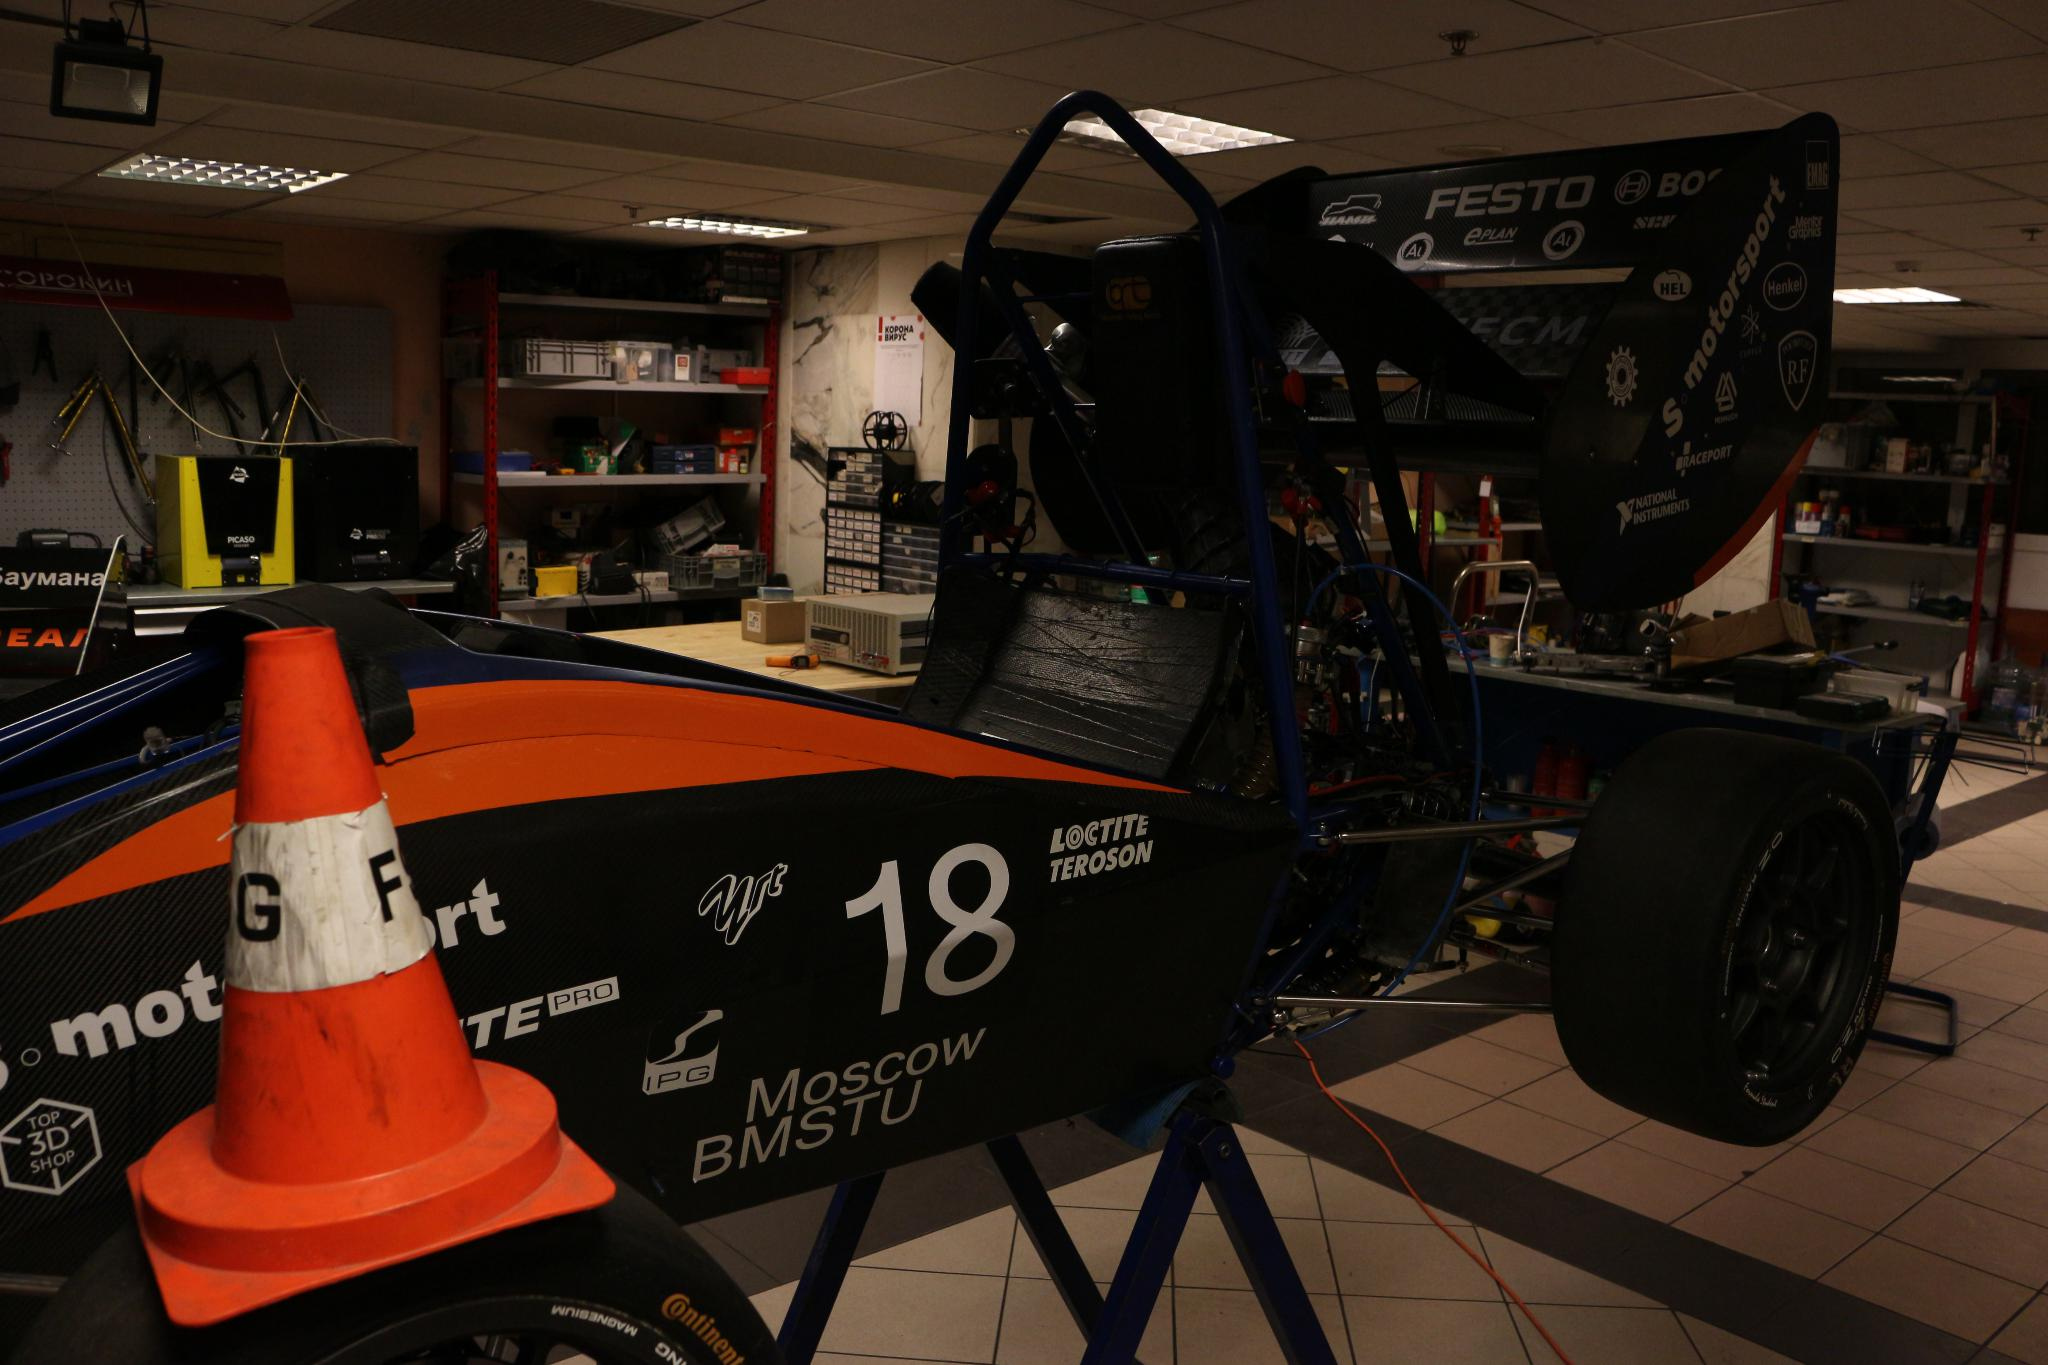Orange_Cone: (120, 622, 571, 1271)
